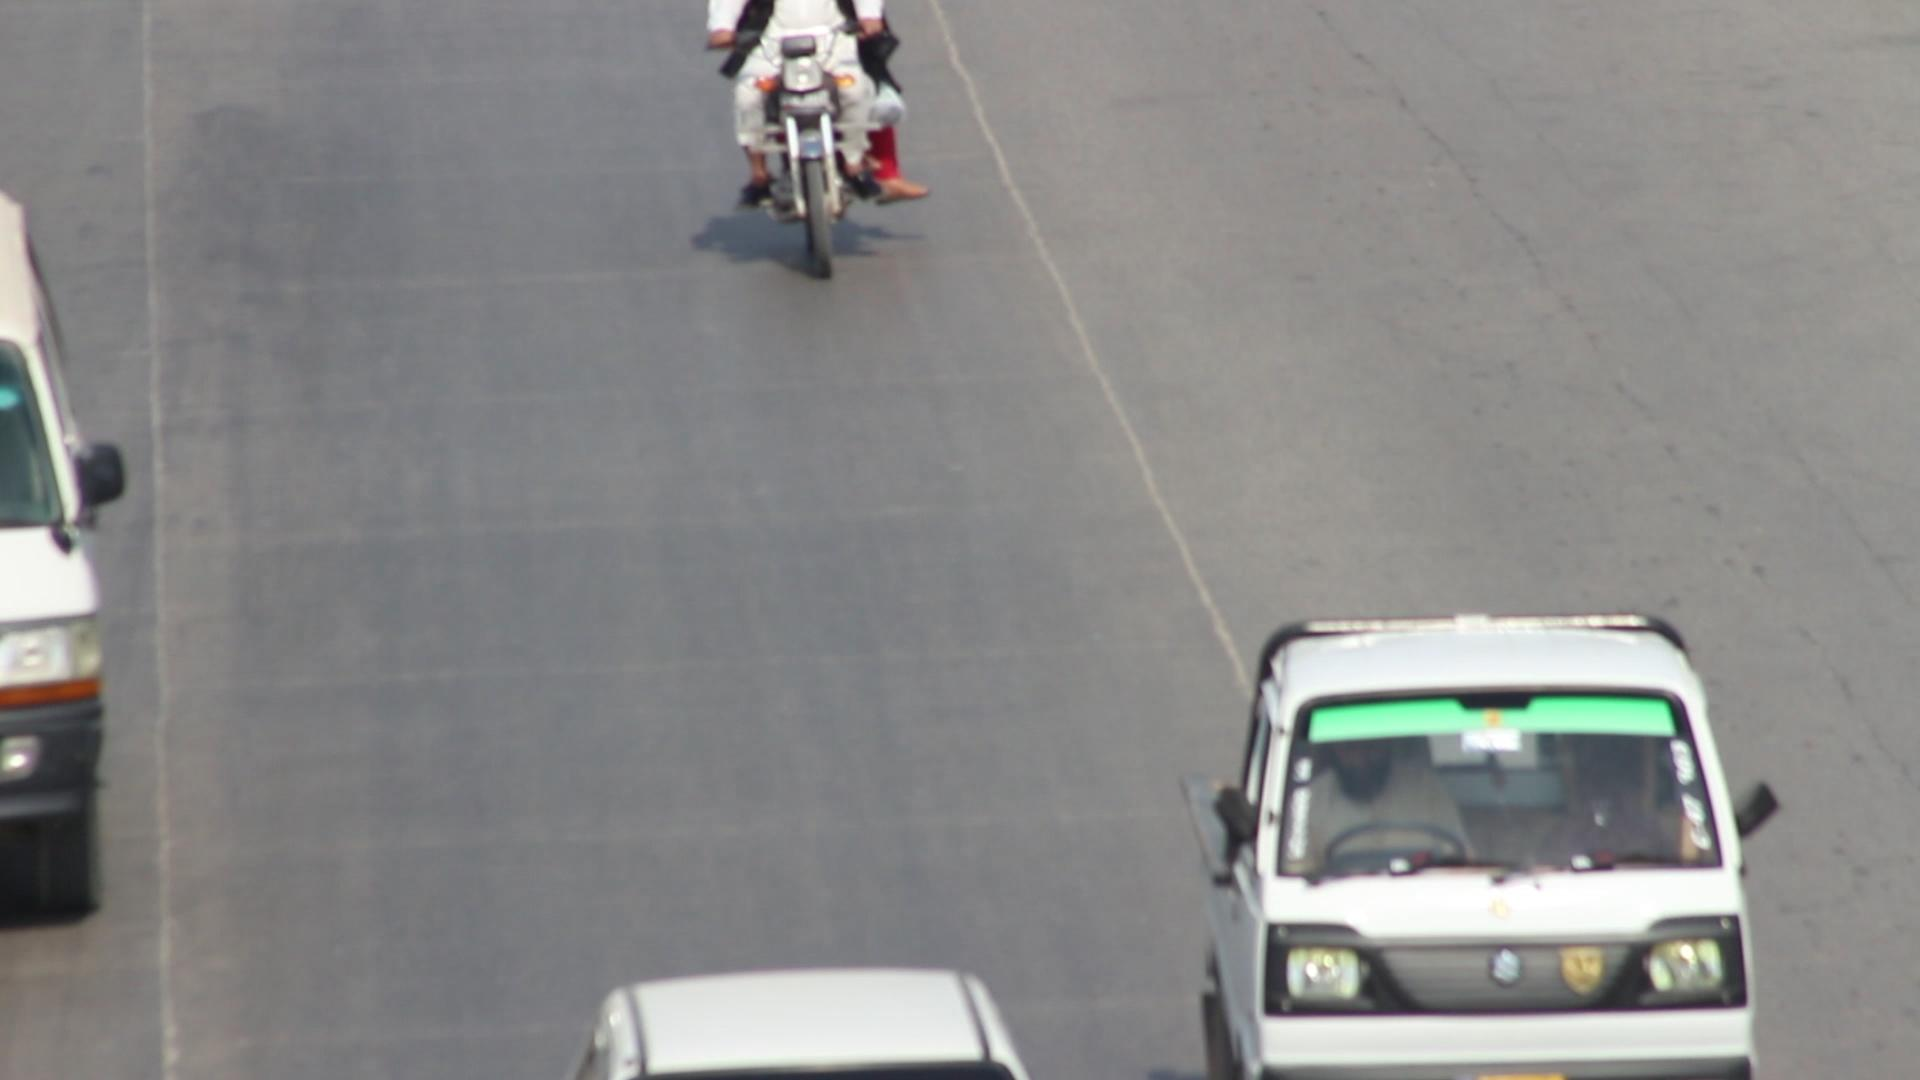windshield: (1274, 676, 1741, 910)
